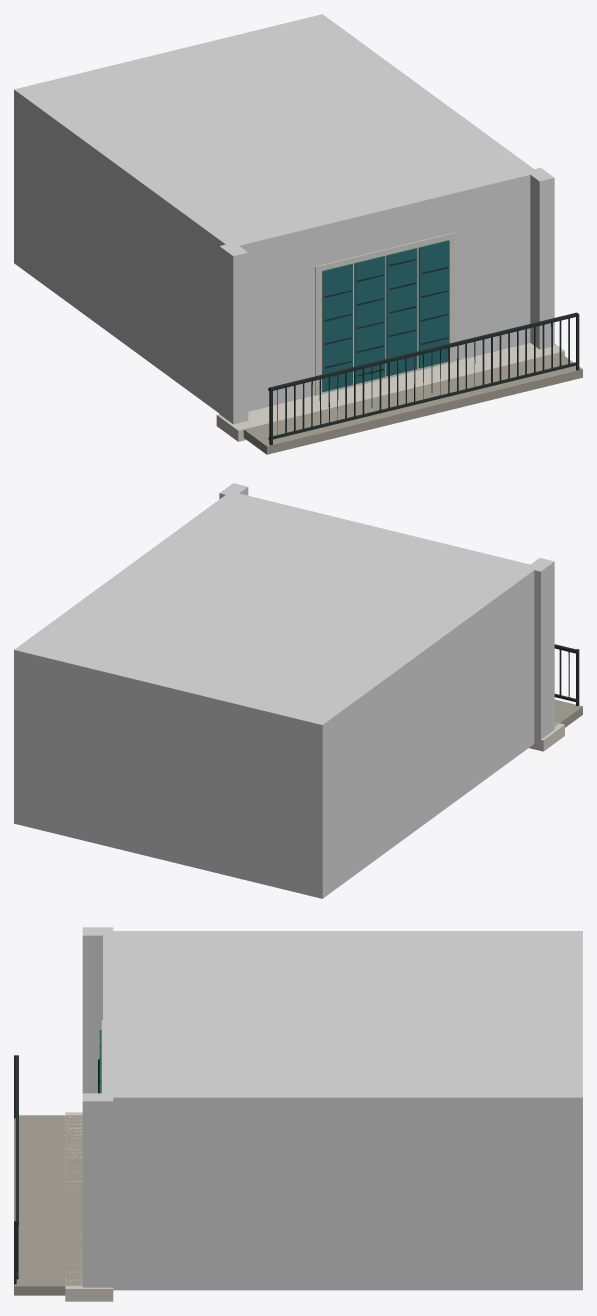
Rendered from lau_ban_cong_60.glb.
3 views of the same model, one above another, from view 1: azimuth 30°, elevation 25°; view 2: azimuth 150°, elevation 25°; view 3: azimuth 270°, elevation 25° (orthographic). The views are drawn at different scales.
Parts seen in each view (by area): view 1: lau_ban_cong_60; view 2: lau_ban_cong_60; view 3: lau_ban_cong_60.
Boxes of the visible parts, <box> form: lau_ban_cong_60: <box>14,14,582,454</box>; lau_ban_cong_60: <box>14,483,582,898</box>; lau_ban_cong_60: <box>14,927,582,1301</box>.
Size of the model in its own units: 6.1 by 3.2 by 8.3.
